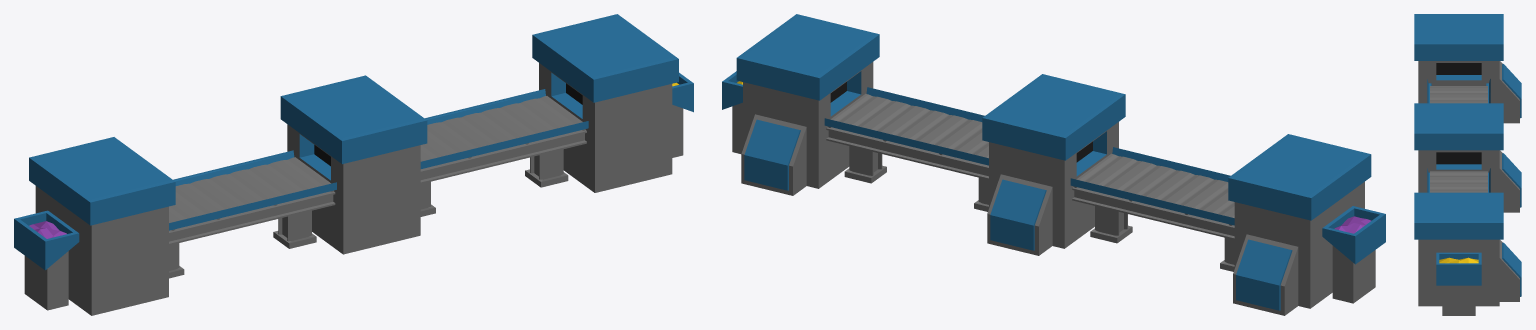
File: conveyor.fbx
3 renders of one model, left to right at view 1: azimuth 30°, elevation 25°; view 2: azimuth 150°, elevation 25°; view 3: azimuth 270°, elevation 25°, orthographic. The views are drawn at different scales.
Parts seen in each view (by area): view 1: conveyor, scalable_conveyor_meme; view 2: conveyor, scalable_conveyor_meme; view 3: conveyor, scalable_conveyor_meme.
Part boxes in pixels (<box>): conveyor: <box>14,14,693,315</box>; scalable_conveyor_meme: <box>280,75,427,254</box>; conveyor: <box>722,14,1385,315</box>; scalable_conveyor_meme: <box>982,74,1125,255</box>; conveyor: <box>1414,14,1521,315</box>; scalable_conveyor_meme: <box>1414,103,1521,212</box>.
Bounding box in the file's own units: 1340 × 232 × 264.
6 materials, 5 textured.
